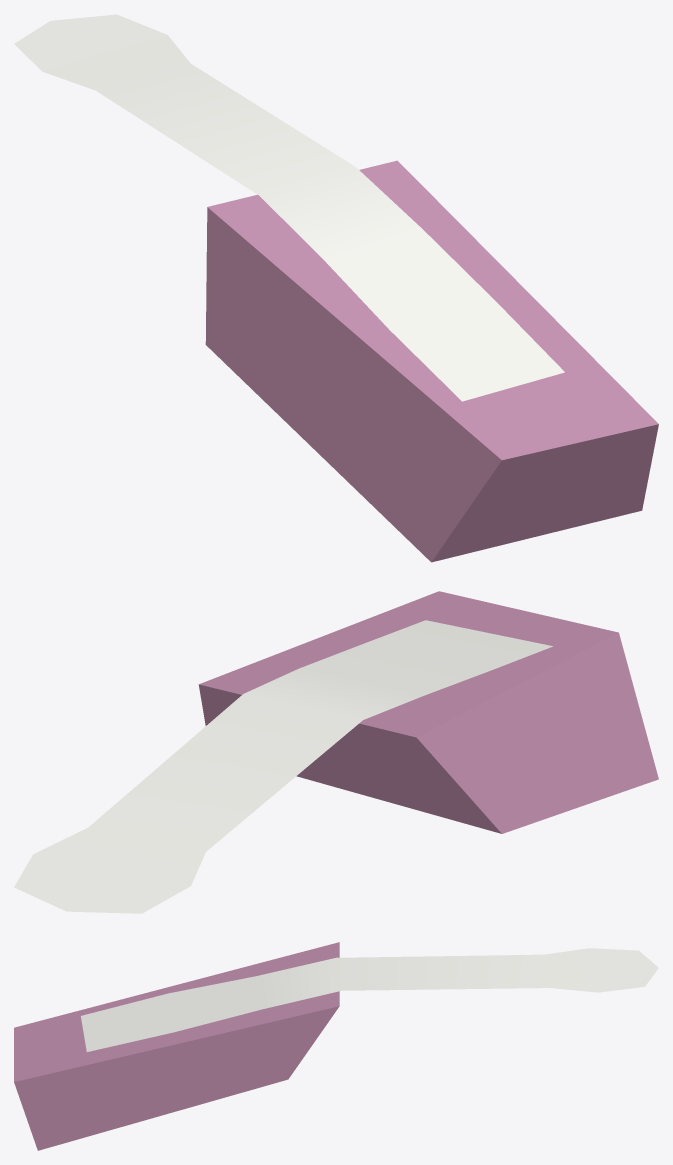
File: terrainReimport02.fbx
3 renders of one model, top to bottom at view 1: azimuth 30°, elevation 25°; view 2: azimuth 150°, elevation 25°; view 3: azimuth 270°, elevation 25°, orthographic. The views are drawn at different scales.
Parts seen in each view (by area): view 1: pPlane114, path_OBJ; view 2: pPlane114, path_OBJ; view 3: pPlane114, path_OBJ.
Boxes of the visible parts, x1,y1,x2,y2 form: pPlane114: (205,160,658,562); path_OBJ: (14,14,564,401); pPlane114: (198,591,658,833); path_OBJ: (14,620,552,913); pPlane114: (14,942,339,1150); path_OBJ: (81,948,658,1051).
Size of the model in its own units: 25.27 by 18.91 by 79.94.
